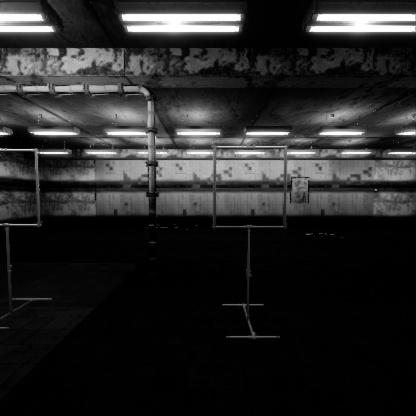gate: (213, 186, 294, 270)
